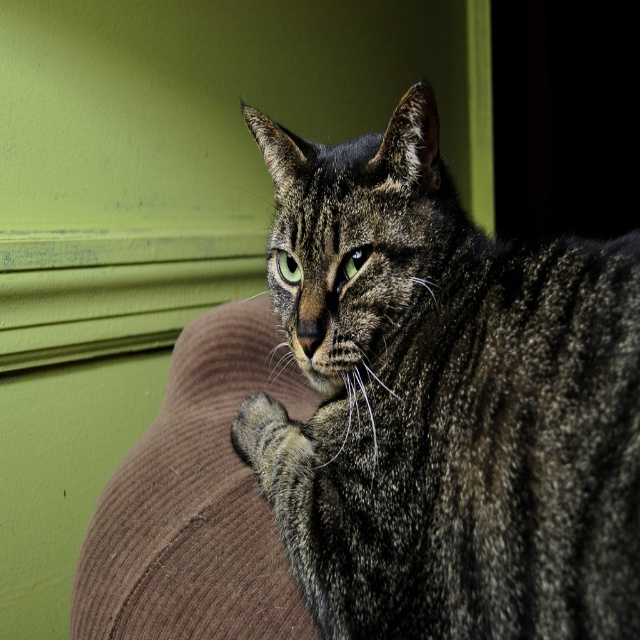Lynx: (230, 75, 640, 639)
